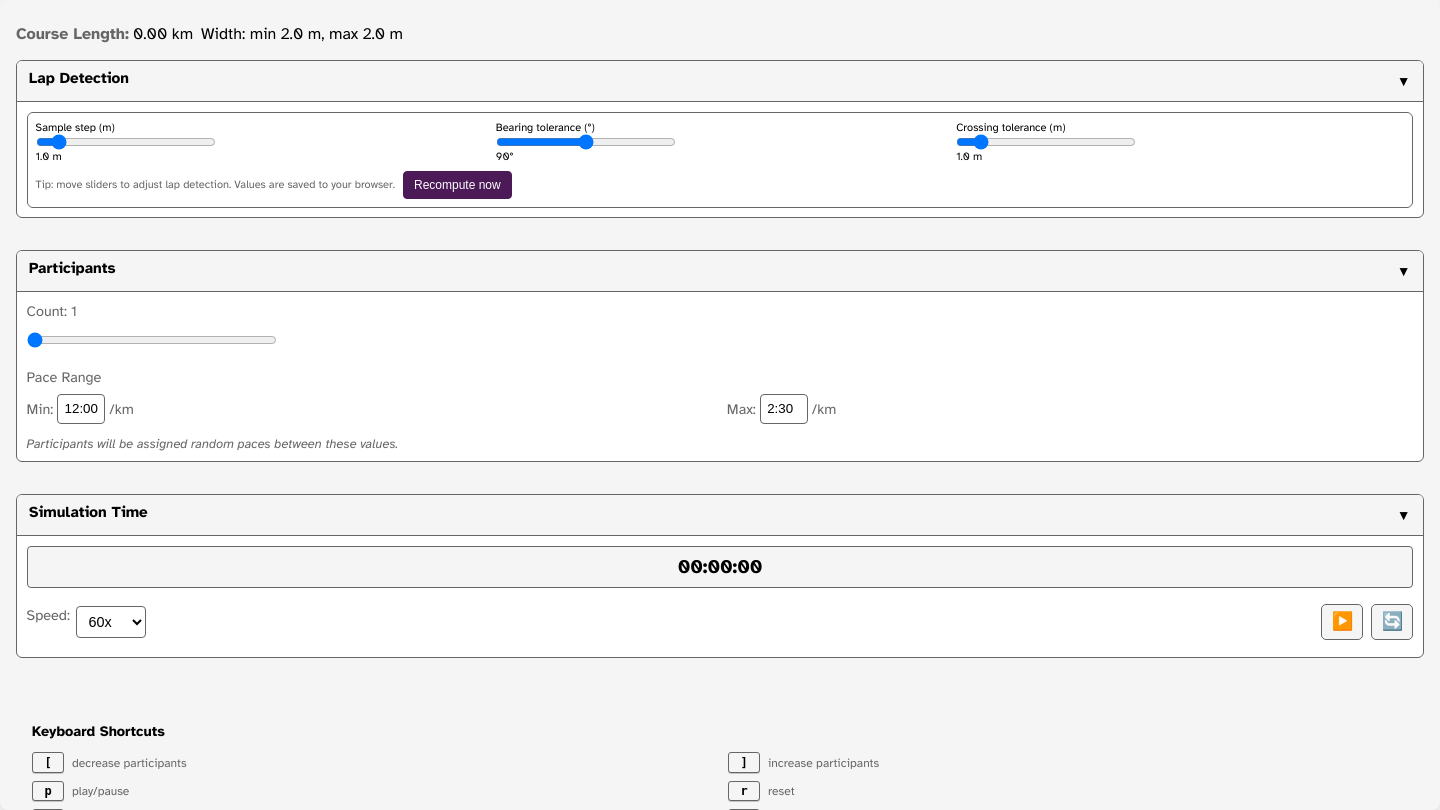
Test: Simulator Component › shows error message when pace range is invalid (fastest > slowest)
Replace the text in the field named "Maximum pace" with "15:00": point(784, 409) [760,394,808,424]
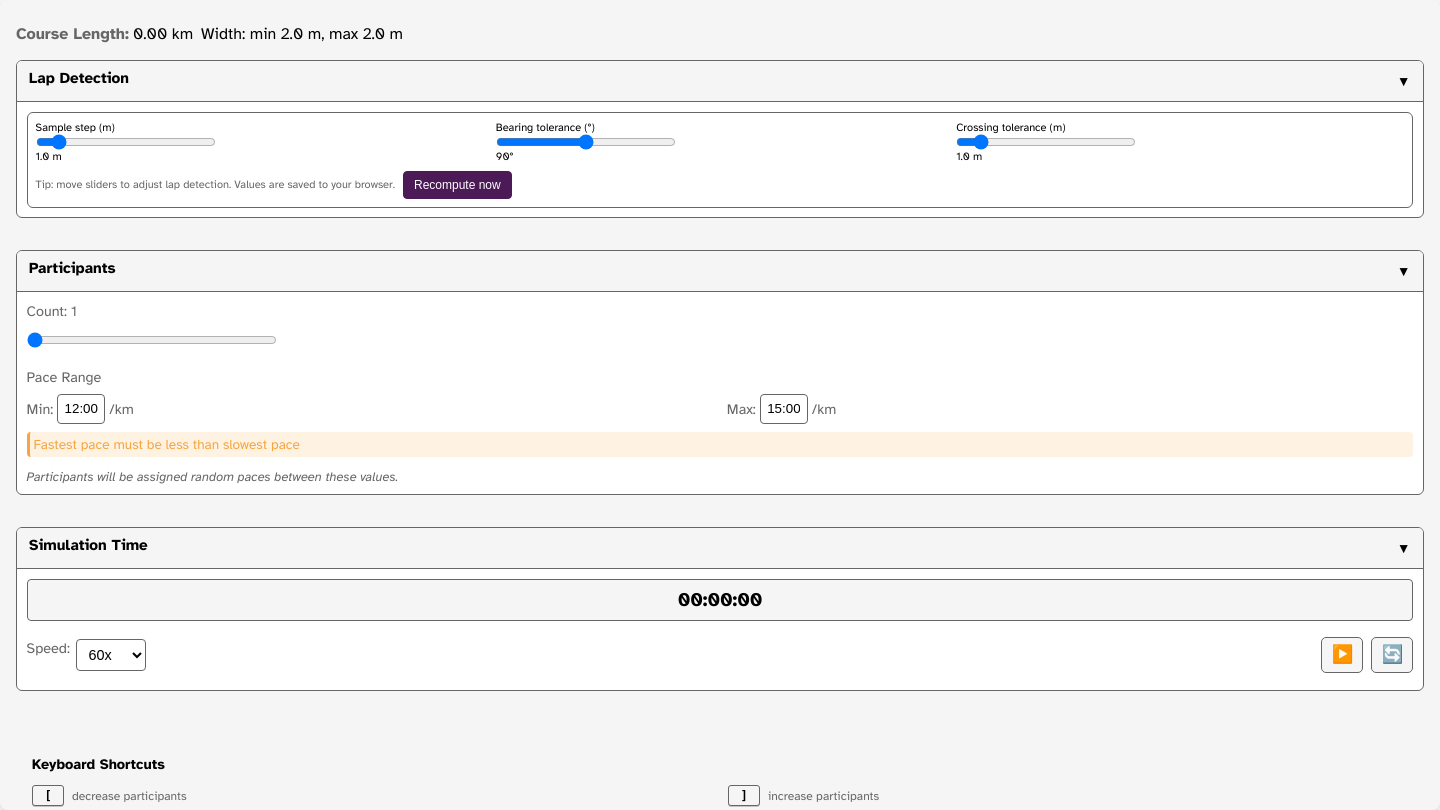
Expected: the text "Fastest pace must be less than slowest pace" is shown, [27,432,1413,457]
